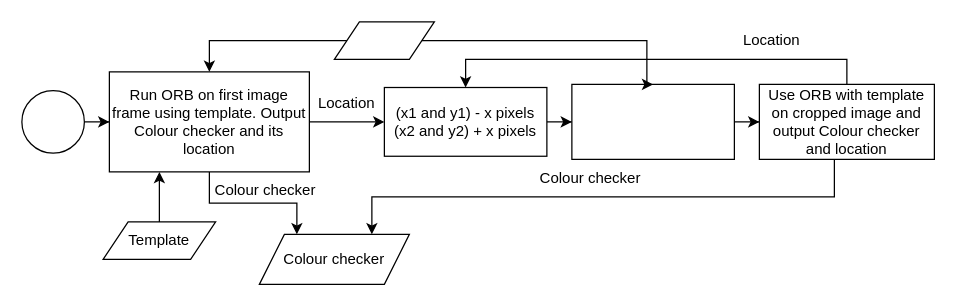
Some shapes in this 956 by 306 pixel diagram are drawn without their labels. The box of each missing label's shape, as (x1, y1, x2, y2) in pixels:
Crop next frame from video using cordinates: (571, 83, 734, 159)
Start: (21, 89, 84, 153)
Video: (333, 21, 434, 59)
